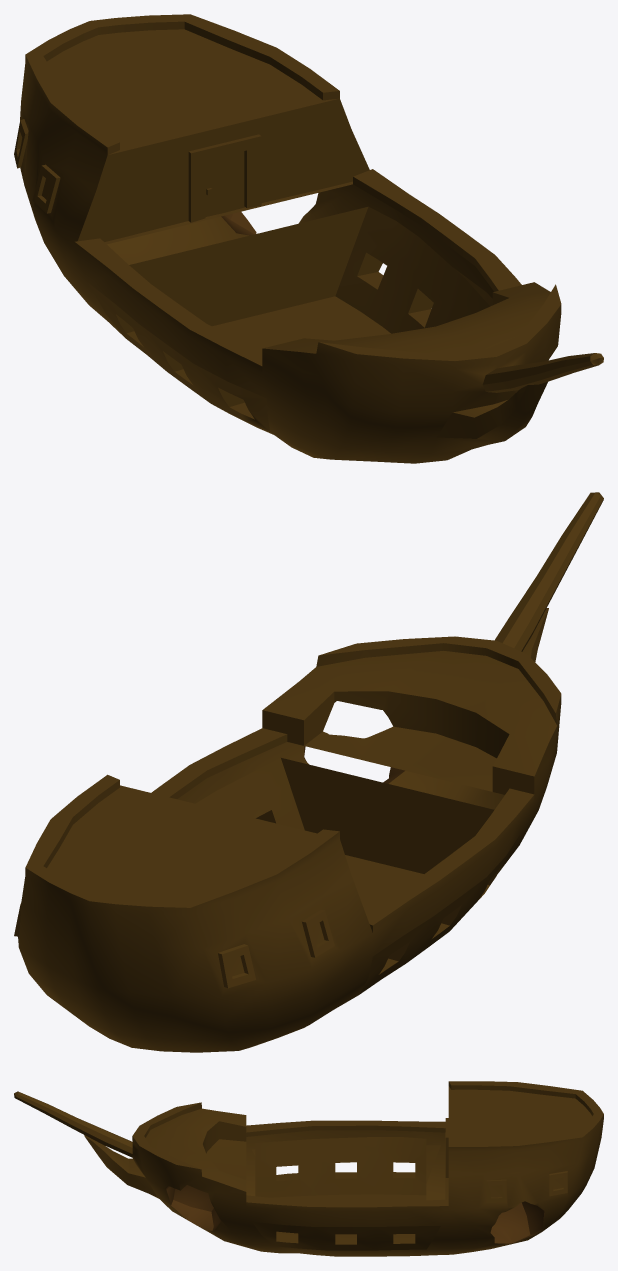
File: LeftAndRightBrokenShip.fbx
3 renders of one model, top to bottom at view 1: azimuth 30°, elevation 25°; view 2: azimuth 150°, elevation 25°; view 3: azimuth 270°, elevation 25°, orthographic. The views are drawn at different scales.
Visible parts, largest first — view 1: BrokenShip; view 2: BrokenShip; view 3: BrokenShip.
Boxes of the visible parts, x1=… form: BrokenShip: x1=14, y1=14, x2=603, y2=463; BrokenShip: x1=14, y1=492, x2=603, y2=1052; BrokenShip: x1=14, y1=1081, x2=603, y2=1256.
Size of the model in its own units: 507 by 1461 by 381.
